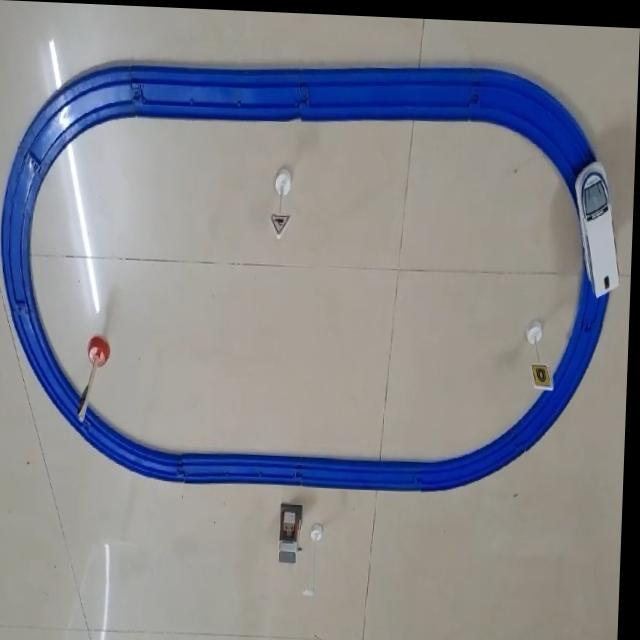bus: (573, 155, 626, 295)
